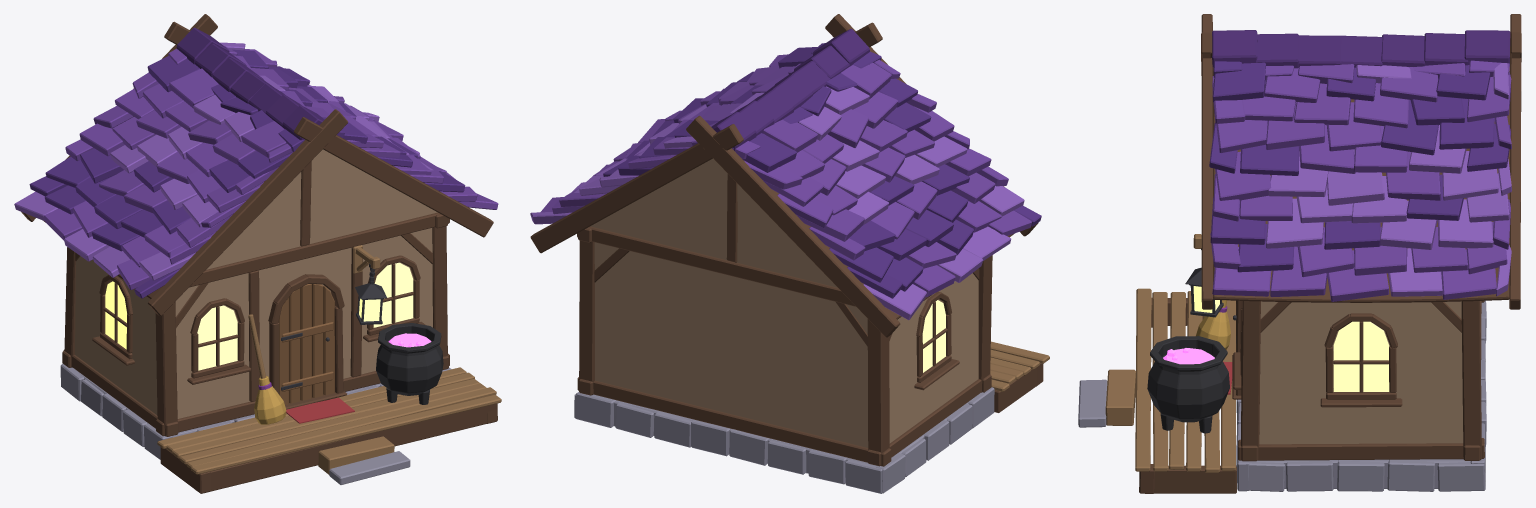
File: witch_hut.glb
3 views of the same model, side by side, from view 1: azimuth 30°, elevation 25°; view 2: azimuth 150°, elevation 25°; view 3: azimuth 270°, elevation 25° (orthographic). The views are drawn at different scales.
Visible parts, largest first — view 1: Hut_WoodDark-col, Hut_Wall-col, Hut_RoofTile, Hut_WoodLight-col, Hut_RoofTileDark, Hut_RoofTileLight, HutDoor, Hut_Stone-col, Hut_RoofRidge, Hut_Glow, Hut_CauldronIron-col, Hut_Straw-col (+2 smaller); view 2: Hut_Wall-col, Hut_WoodDark-col, Hut_RoofTile, Hut_RoofTileDark, Hut_Stone-col, Hut_RoofTileLight, Hut_RoofRidge, Hut_WoodLight-col, Hut_Glow; view 3: Hut_RoofTile, Hut_WoodDark-col, Hut_Wall-col, Hut_RoofTileLight, Hut_RoofTileDark, Hut_WoodLight-col, Hut_Stone-col, Hut_RoofRidge, Hut_CauldronIron-col, Hut_Glow, Hut_Straw-col, Hut_CauldronGoo (+1 smaller).
Boxes of the visible parts, x1=… form: Hut_WoodDark-col: x1=21, y1=14, x2=497, y2=493; Hut_Wall-col: x1=75, y1=149, x2=437, y2=418; Hut_RoofTile: x1=44, y1=46, x2=498, y2=289; Hut_WoodLight-col: x1=157, y1=245, x2=501, y2=474; Hut_RoofTileDark: x1=29, y1=49, x2=465, y2=298; Hut_RoofTileLight: x1=14, y1=42, x2=433, y2=280; HutDoor: x1=278, y1=284, x2=334, y2=405; Hut_Stone-col: x1=60, y1=364, x2=451, y2=484; Hut_RoofRidge: x1=176, y1=27, x2=324, y2=140; Hut_Glow: x1=105, y1=262, x2=413, y2=370; Hut_CauldronIron-col: x1=376, y1=323, x2=443, y2=404; Hut_Straw-col: x1=254, y1=376, x2=286, y2=424; Hut_Wall-col: x1=590, y1=158, x2=978, y2=447; Hut_WoodDark-col: x1=530, y1=14, x2=1043, y2=466; Hut_RoofTile: x1=540, y1=54, x2=1031, y2=297; Hut_RoofTileDark: x1=603, y1=43, x2=1041, y2=298; Hut_Stone-col: x1=574, y1=387, x2=994, y2=493; Hut_RoofTileLight: x1=530, y1=86, x2=1024, y2=320; Hut_RoofRidge: x1=711, y1=29, x2=869, y2=150; Hut_WoodLight-col: x1=990, y1=341, x2=1049, y2=391; Hut_Glow: x1=922, y1=300, x2=945, y2=372; Hut_RoofTile: x1=1210, y1=60, x2=1511, y2=301; Hut_WoodDark-col: x1=1139, y1=14, x2=1521, y2=493; Hut_Wall-col: x1=1259, y1=301, x2=1463, y2=444; Hut_RoofTileLight: x1=1266, y1=63, x2=1511, y2=296; Hut_RoofTileDark: x1=1209, y1=61, x2=1510, y2=272; Hut_WoodLight-col: x1=1105, y1=234, x2=1236, y2=472; Hut_Stone-col: x1=1078, y1=300, x2=1486, y2=491; Hut_RoofRidge: x1=1212, y1=30, x2=1510, y2=68; Hut_CauldronIron-col: x1=1147, y1=336, x2=1229, y2=433; Hut_Glow: x1=1333, y1=321, x2=1389, y2=391; Hut_Straw-col: x1=1196, y1=300, x2=1230, y2=349; Hut_CauldronGoo: x1=1163, y1=348, x2=1214, y2=364.
Bounding box in the file's own units: 5.37 × 4.59 × 4.78.
